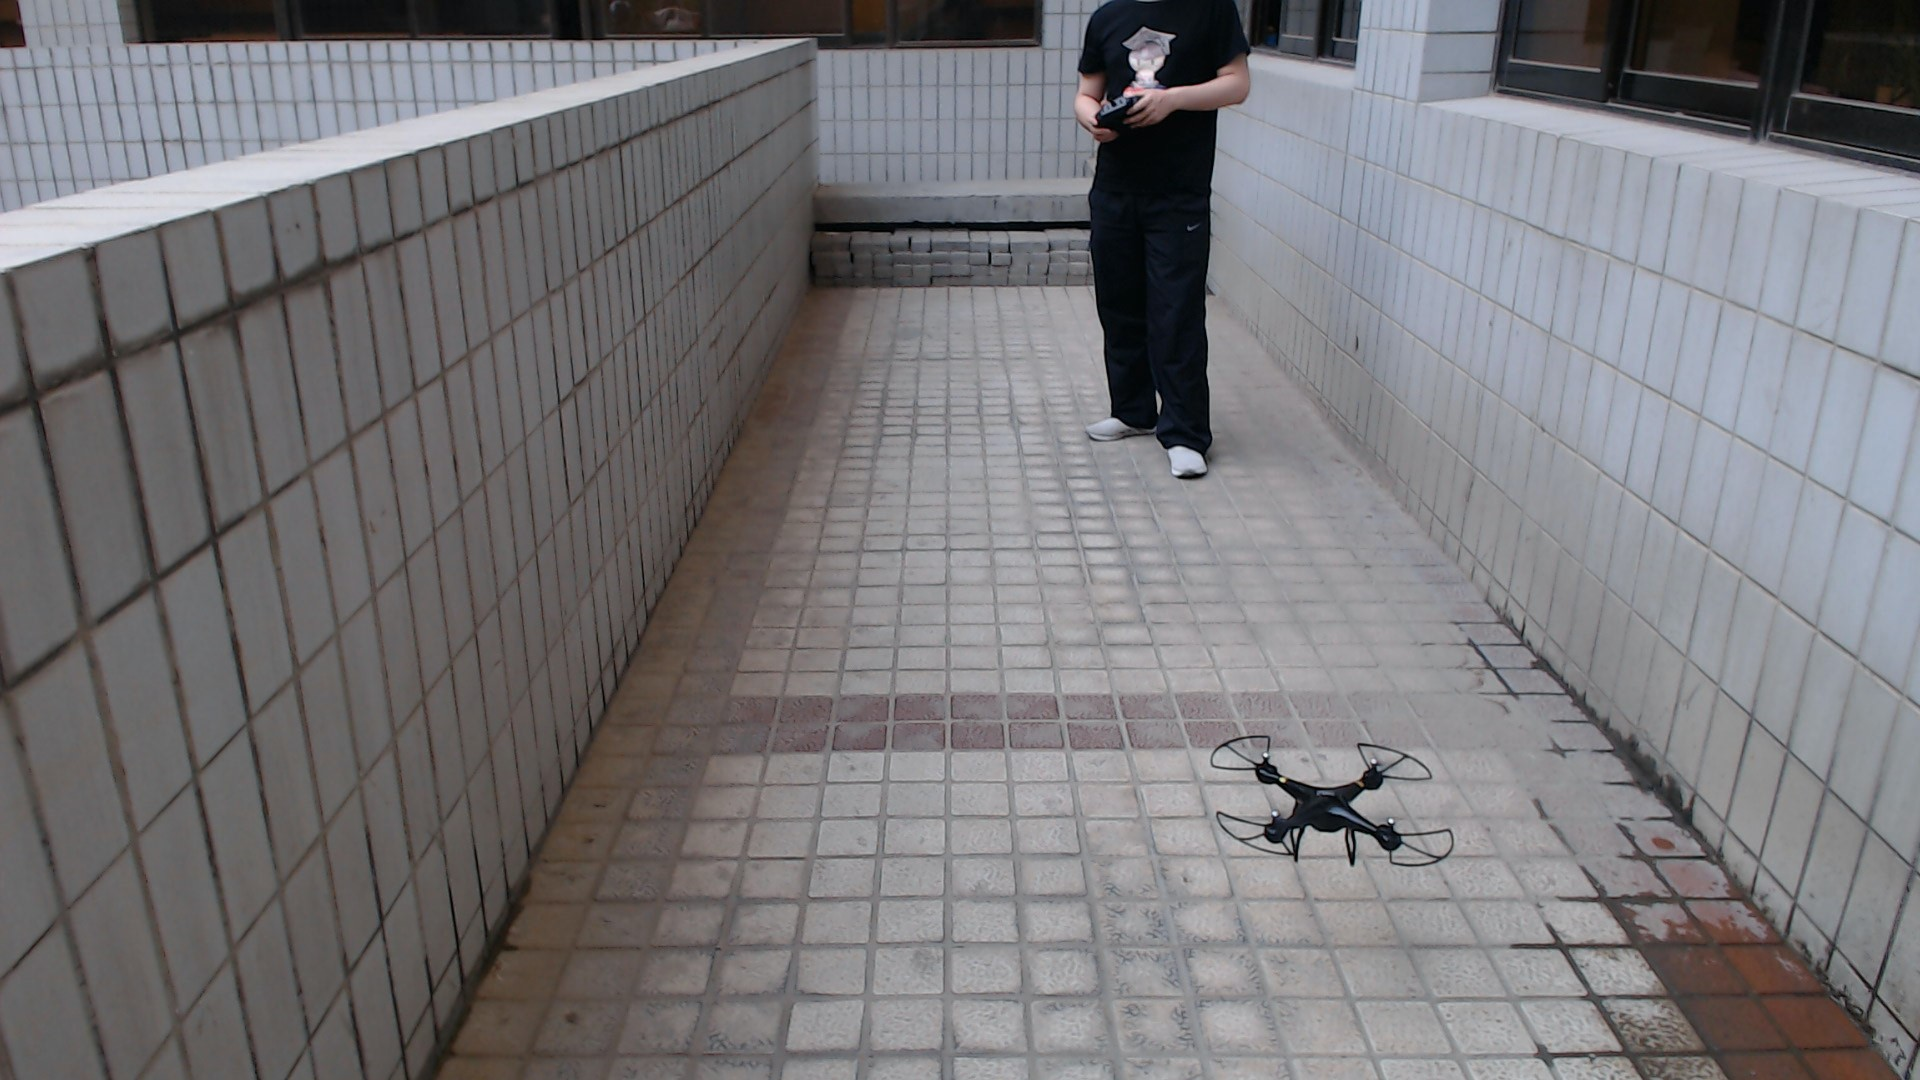drone: (1186, 709, 1468, 883)
person: (1068, 7, 1244, 496)
